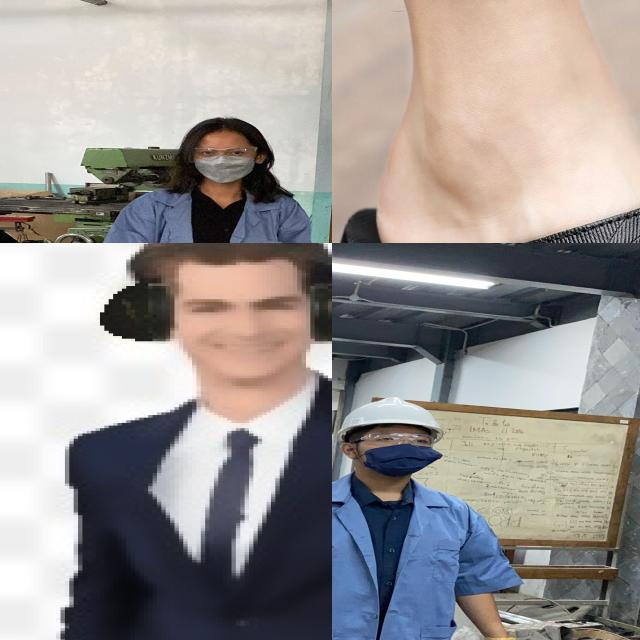Ear-protection: (84, 249, 332, 370)
Sandals: (336, 142, 640, 243)
face_mask: (355, 429, 438, 474), (187, 143, 257, 185)
glasses: (348, 431, 438, 451), (182, 142, 260, 160)
head_helmet: (334, 396, 446, 435)
head_nohelmet: (176, 115, 267, 144)
person: (332, 391, 525, 640), (75, 112, 332, 243)
